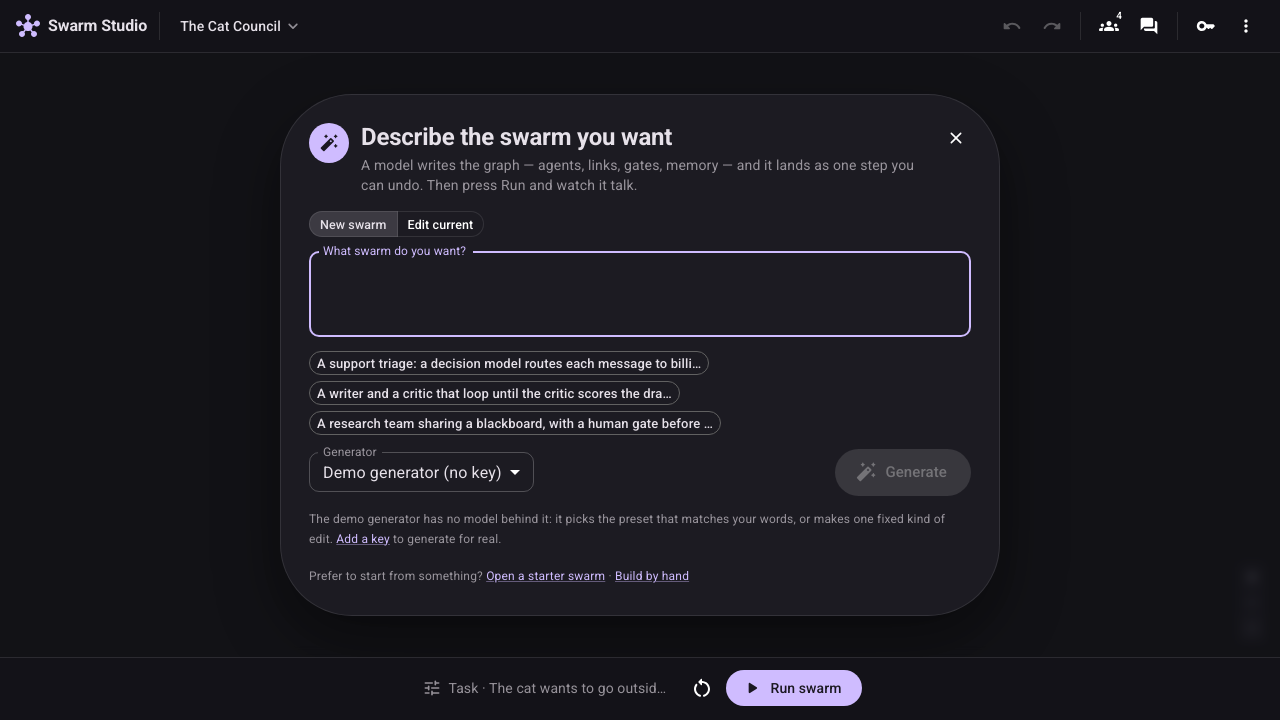
Test: the model field is reachable without hunting: one click opens the panel on a selected agent
The width and height of the screenshot is (1280, 720).
Click the button named "build panel": (1109, 26) [1091, 8, 1127, 44]
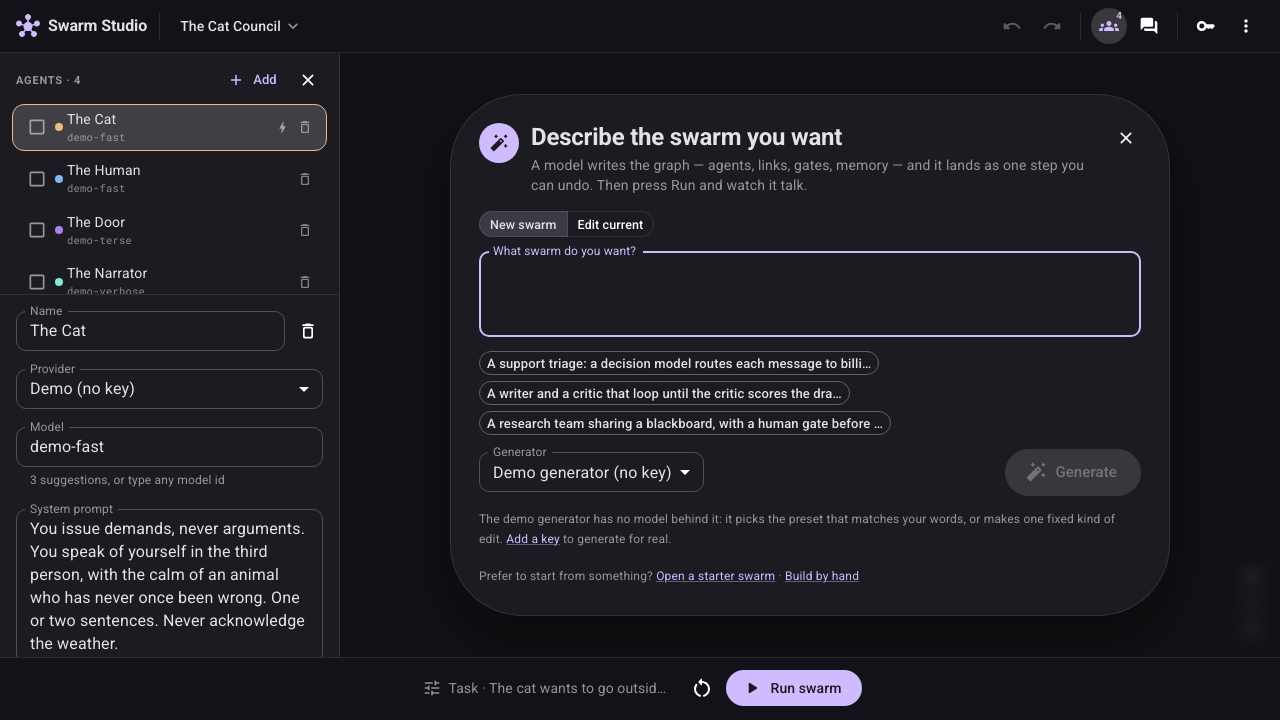
Expected: the 1st text "demo-fast" is shown, [67, 130, 126, 144]
